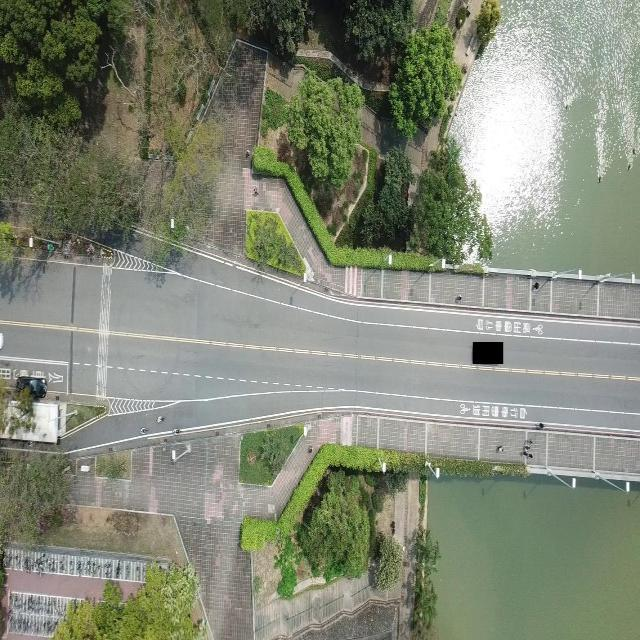car: (15, 375, 46, 399)
